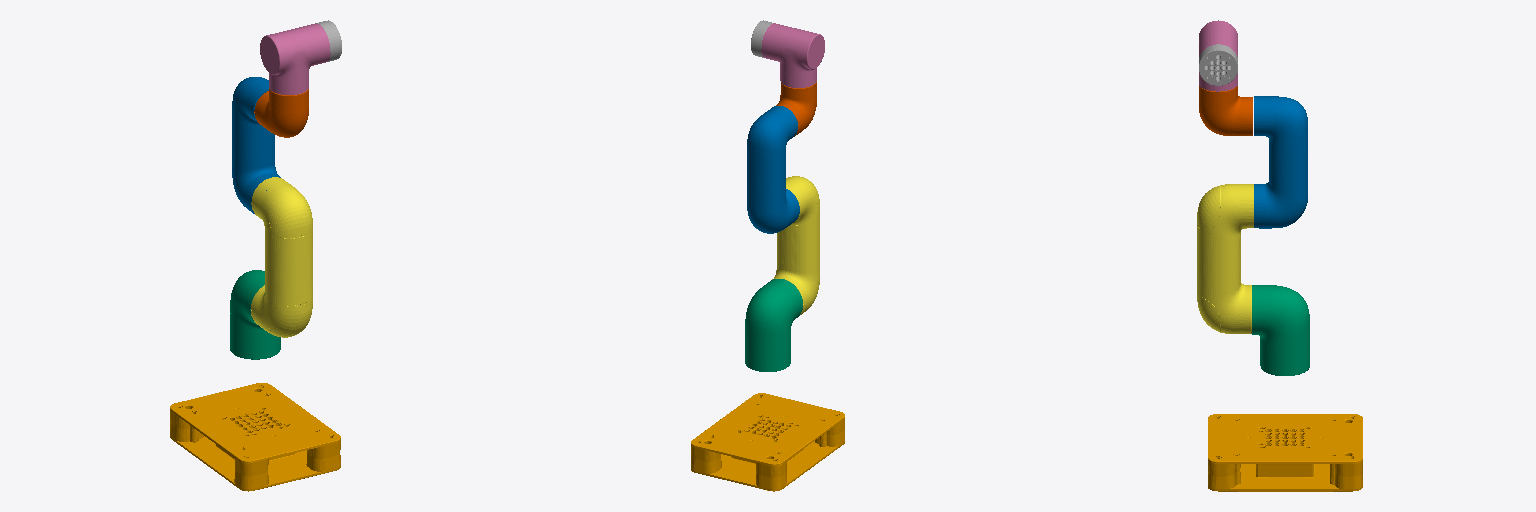
robot.urdf — firefighter:
<?xml version='1.0' encoding='utf-8'?>
<robot name="firefighter">
  <link name="g_base">
    <!-- placeholder inertial added by normalize_urdf.py - replace with CAD values -->
    <inertial>
      <origin xyz="0 0 0" rpy="0 0 0" />
      <mass value="0.1" />
      <inertia ixx="3.600e-05" ixy="0" ixz="0" iyy="3.600e-05" iyz="0" izz="3.600e-05" />
    </inertial>
    <visual>
      <geometry>
        <mesh filename="../../meshes/flat/G_base.stl" />
      </geometry>
      <origin xyz="0.0 0 -0.03" rpy="0 0 1.5708" />
    </visual>
    <collision>
      <geometry>
        <mesh filename="../../meshes/flat/G_base.stl" />
      </geometry>
      <origin xyz="0.0 0 -0.03" rpy="0 0 1.5708" />
    </collision>
  </link>
  <link name="joint1">
    <!-- placeholder inertial added by normalize_urdf.py - replace with CAD values -->
    <inertial>
      <origin xyz="0 0 0" rpy="0 0 0" />
      <mass value="0.1" />
      <inertia ixx="3.600e-05" ixy="0" ixz="0" iyy="3.600e-05" iyz="0" izz="3.600e-05" />
    </inertial>
    <visual>
      <geometry>
        <!--- 0.0 0 -0.04  1.5708 3.14159-->
        <mesh filename="../../meshes/flat/joint1_pi.stl" />
      </geometry>
      <origin xyz="0.0 0 0 " rpy=" 0 0 0" />
    </visual>
    <collision>
      <geometry>
        <!--- 0.0 0 -0.04  1.5708 3.14159-->
        <mesh filename="../../meshes/flat/joint1_pi.stl" />
      </geometry>
      <origin xyz="0.0 0 0 " rpy=" 0 0 0" />
    </collision>
  </link>
  <link name="joint2">
    <!-- placeholder inertial added by normalize_urdf.py - replace with CAD values -->
    <inertial>
      <origin xyz="0 0 0" rpy="0 0 0" />
      <mass value="0.1" />
      <inertia ixx="3.600e-05" ixy="0" ixz="0" iyy="3.600e-05" iyz="0" izz="3.600e-05" />
    </inertial>
    <visual>
      <geometry>
        <mesh filename="../../meshes/joint2.dae" />
      </geometry>
      <origin xyz="0.0 0 -0.06096 " rpy=" 0 0 -1.5708" />
    </visual>
    <collision>
      <geometry>
        <mesh filename="../../meshes/joint2.dae" />
      </geometry>
      <origin xyz="0.0 0 -0.06096 " rpy=" 0 0 -1.5708" />
    </collision>
  </link>
  <link name="joint3">
    <!-- placeholder inertial added by normalize_urdf.py - replace with CAD values -->
    <inertial>
      <origin xyz="0 0 0" rpy="0 0 0" />
      <mass value="0.1" />
      <inertia ixx="3.600e-05" ixy="0" ixz="0" iyy="3.600e-05" iyz="0" izz="3.600e-05" />
    </inertial>
    <visual>
      <geometry>
        <mesh filename="../../meshes/joint3.dae" />
      </geometry>
      <origin xyz="0.0 0 0.03256 " rpy=" 0 -1.5708 0" />
    </visual>
    <collision>
      <geometry>
        <mesh filename="../../meshes/joint3.dae" />
      </geometry>
      <origin xyz="0.0 0 0.03256 " rpy=" 0 -1.5708 0" />
    </collision>
  </link>
  <link name="joint4">
    <!-- placeholder inertial added by normalize_urdf.py - replace with CAD values -->
    <inertial>
      <origin xyz="0 0 0" rpy="0 0 0" />
      <mass value="0.1" />
      <inertia ixx="3.600e-05" ixy="0" ixz="0" iyy="3.600e-05" iyz="0" izz="3.600e-05" />
    </inertial>
    <visual>
      <geometry>
        <!--- 0.0 0 -0.04 -->
        <mesh filename="../../meshes/joint4.dae" />
      </geometry>
      <origin xyz="0.0 0 0.03056 " rpy=" 0 -1.5708 0" />
    </visual>
    <collision>
      <geometry>
        <!--- 0.0 0 -0.04 -->
        <mesh filename="../../meshes/joint4.dae" />
      </geometry>
      <origin xyz="0.0 0 0.03056 " rpy=" 0 -1.5708 0" />
    </collision>
  </link>
  <link name="joint5">
    <!-- placeholder inertial added by normalize_urdf.py - replace with CAD values -->
    <inertial>
      <origin xyz="0 0 0" rpy="0 0 0" />
      <mass value="0.1" />
      <inertia ixx="3.600e-05" ixy="0" ixz="0" iyy="3.600e-05" iyz="0" izz="3.600e-05" />
    </inertial>
    <visual>
      <geometry>
        <!--- 0.0 0 -0.04 -->
        <mesh filename="../../meshes/flat/joint5.stl" />
      </geometry>
      <origin xyz="0.0 0 -0.03356 " rpy=" 0 -1.5708 1.5708" />
    </visual>
    <collision>
      <geometry>
        <!--- 0.0 0 -0.04 -->
        <mesh filename="../../meshes/flat/joint5.stl" />
      </geometry>
      <origin xyz="0.0 0 -0.03356 " rpy=" 0 -1.5708 1.5708" />
    </collision>
  </link>
  <link name="joint6">
    <!-- placeholder inertial added by normalize_urdf.py - replace with CAD values -->
    <inertial>
      <origin xyz="0 0 0" rpy="0 0 0" />
      <mass value="0.1" />
      <inertia ixx="3.600e-05" ixy="0" ixz="0" iyy="3.600e-05" iyz="0" izz="3.600e-05" />
    </inertial>
    <visual>
      <geometry>
        <!--- 0.0 0 -0.04 -->
        <mesh filename="../../meshes/joint6.dae" />
      </geometry>
      <origin xyz="0 0.00 -0.038 " rpy=" 0 0 0" />
    </visual>
    <collision>
      <geometry>
        <!--- 0.0 0 -0.04 -->
        <mesh filename="../../meshes/joint6.dae" />
      </geometry>
      <origin xyz="0 0.00 -0.038 " rpy=" 0 0 0" />
    </collision>
  </link>
  <link name="joint6_flange">
    <!-- placeholder inertial added by normalize_urdf.py - replace with CAD values -->
    <inertial>
      <origin xyz="0 0 0" rpy="0 0 0" />
      <mass value="0.1" />
      <inertia ixx="3.600e-05" ixy="0" ixz="0" iyy="3.600e-05" iyz="0" izz="3.600e-05" />
    </inertial>
    <visual>
      <geometry>
        <!--- 0.0 0 -0.04 -->
        <mesh filename="../../meshes/joint7.dae" />
      </geometry>
      <origin xyz="0.0 0 -0.012 " rpy=" 0 0 0" />
    </visual>
    <collision>
      <geometry>
        <!--- 0.0 0 -0.04 -->
        <mesh filename="../../meshes/joint7.dae" />
      </geometry>
      <origin xyz="0.0 0 -0.012 " rpy=" 0 0 0" />
    </collision>
  </link>
  <joint name="g_base_to_joint1" type="fixed">
    <axis xyz="0 0 0" />
    <limit effort="1000.0" lower="-3.14" upper="3.14159" velocity="0" />
    <parent link="g_base" />
    <child link="joint1" />
    <origin xyz="0 0 0" rpy="0 0 0" />
  </joint>
  <joint name="joint2_to_joint1" type="revolute">
    <axis xyz="0 0 1" />
    <limit effort="1000.0" lower="-3.14" upper="3.14159" velocity="2" />
    <parent link="joint1" />
    <child link="joint2" />
    <origin xyz="0 0 0.13956" rpy="0 0 0" />
  </joint>
  <joint name="joint3_to_joint2" type="revolute">
    <axis xyz="0 0 1" />
    <limit effort="1000.0" lower="-3.14" upper="3.14159" velocity="2" />
    <parent link="joint2" />
    <child link="joint3" />
    <origin xyz="0 0 -0.001" rpy="0 1.5708 -1.5708" />
  </joint>
  <joint name="joint4_to_joint3" type="revolute">
    <axis xyz=" 0 0 1" />
    <limit effort="1000.0" lower="-3.14" upper="3.14159" velocity="2" />
    <parent link="joint3" />
    <child link="joint4" />
    <origin xyz="  -0.1104 0 0   " rpy="0 0 0" />
  </joint>
  <joint name="joint5_to_joint4" type="revolute">
    <axis xyz=" 0 0 1" />
    <limit effort="1000.0" lower="-3.14" upper="3.14159" velocity="2" />
    <parent link="joint4" />
    <child link="joint5" />
    <origin xyz="-0.096 0 0.06462" rpy="0 0 -1.5708" />
  </joint>
  <joint name="joint6_to_joint5" type="revolute">
    <axis xyz="0 0 1" />
    <limit effort="1000.0" lower="-3.14" upper="3.14159" velocity="2" />
    <parent link="joint5" />
    <child link="joint6" />
    <origin xyz="0 -0.07318 0" rpy="1.5708 -1.5708 0" />
  </joint>
  <joint name="joint6output_to_joint6" type="revolute">
    <axis xyz="0 0 1" />
    <limit effort="1000.0" lower="-3.14" upper="3.14159" velocity="2" />
    <parent link="joint6" />
    <child link="joint6_flange" />
    <origin xyz="0 0.0456 0" rpy="-1.5708 0 0" />
  </joint>
</robot>

--- Facts derived from the render (not from the file) ---
The picture shows the robot from 3 angles, left to right: view 1: azimuth 30°, elevation 25°; view 2: azimuth 150°, elevation 25°; view 3: azimuth 270°, elevation 25°; orthographic projection.
Model firefighter with 8 links and 7 joints (6 revolute, 1 fixed), rooted at g_base, posed all joints at 0.
Visible links, largest first — view 1: g_base, joint3, joint4, joint6, joint2, joint5; view 2: g_base, joint4, joint2, joint3, joint6, joint5; view 3: g_base, joint3, joint4, joint2, joint5, joint6_flange, joint6.
Boxes of the visible links, left/top/right/bottom form: g_base: left=170, top=383, right=340, bottom=491; joint3: left=251, top=177, right=312, bottom=337; joint4: left=232, top=77, right=280, bottom=213; joint6: left=260, top=23, right=330, bottom=94; joint2: left=230, top=270, right=280, bottom=359; joint5: left=254, top=88, right=308, bottom=137; g_base: left=691, top=393, right=844, bottom=491; joint4: left=747, top=106, right=799, bottom=233; joint2: left=745, top=279, right=802, bottom=371; joint3: left=772, top=176, right=819, bottom=314; joint6: left=761, top=23, right=824, bottom=87; joint5: left=776, top=82, right=816, bottom=136; g_base: left=1208, top=414, right=1362, bottom=491; joint3: left=1197, top=184, right=1253, bottom=333; joint4: left=1254, top=96, right=1307, bottom=228; joint2: left=1252, top=285, right=1309, bottom=375; joint5: left=1199, top=86, right=1252, bottom=135; joint6_flange: left=1199, top=44, right=1237, bottom=85; joint6: left=1199, top=20, right=1237, bottom=91.
Bounding box of the posed robot: 0.11 × 0.1603 × 0.4673 m (x, y, z).
Meshes: 8 distinct files referenced, 7 mesh visuals loaded (2 binary STL, 5 Collada DAE); not drawn: 1 (reference not matched to a file when rendering).
